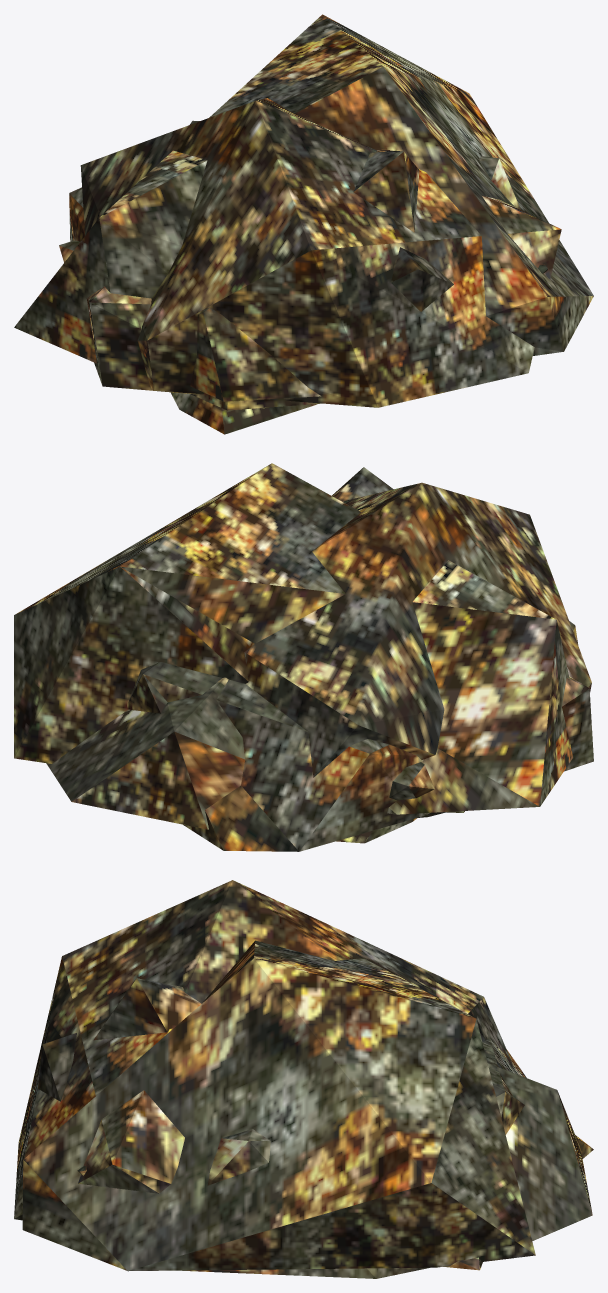
File: iron_deposits.glb
The picture shows the model from 3 angles, top to bottom: view 1: azimuth 30°, elevation 25°; view 2: azimuth 150°, elevation 25°; view 3: azimuth 270°, elevation 25°; orthographic projection. The views are drawn at different scales.
Visible parts, largest first — view 1: iron_deposits.005, iron_deposits.010, iron_deposits.001, iron_deposits.006, iron_deposits.009, iron_deposits.008; view 2: iron_deposits.010, iron_deposits.005, iron_deposits.009, iron_deposits.012, iron_deposits.006, iron_deposits.002, iron_deposits.001, iron_deposits.007; view 3: iron_deposits.010, iron_deposits.005, iron_deposits.012, iron_deposits.001, iron_deposits.006, iron_deposits.009.
Boxes of the visible parts, x1,y1,x2,y2 form: iron_deposits.005: [80, 98, 561, 407]; iron_deposits.010: [14, 14, 593, 363]; iron_deposits.001: [190, 149, 419, 401]; iron_deposits.006: [86, 156, 520, 394]; iron_deposits.009: [69, 187, 453, 410]; iron_deposits.008: [170, 392, 317, 434]; iron_deposits.010: [14, 463, 573, 814]; iron_deposits.005: [244, 482, 591, 777]; iron_deposits.009: [128, 662, 429, 851]; iron_deposits.012: [46, 677, 244, 829]; iron_deposits.006: [562, 676, 593, 771]; iron_deposits.002: [389, 762, 446, 817]; iron_deposits.001: [332, 467, 578, 644]; iron_deposits.007: [336, 818, 417, 843]; iron_deposits.010: [22, 940, 535, 1271]; iron_deposits.005: [14, 880, 512, 1220]; iron_deposits.012: [77, 1063, 592, 1240]; iron_deposits.001: [93, 978, 482, 1270]; iron_deposits.006: [182, 1129, 429, 1278]; iron_deposits.009: [38, 1033, 593, 1158].
Bounding box in the file's own units: 3.66 × 1.88 × 3.58.
Materials: 1 (1 with a texture image).
